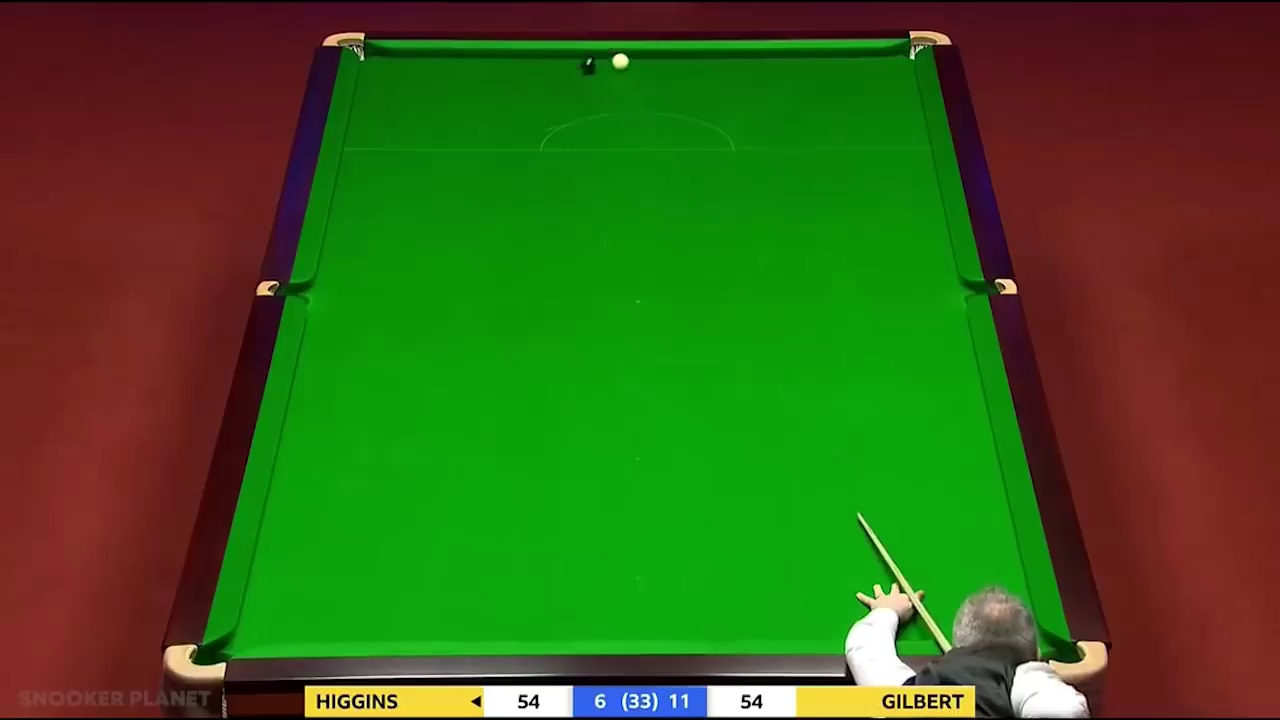ball: (612, 50, 629, 69)
